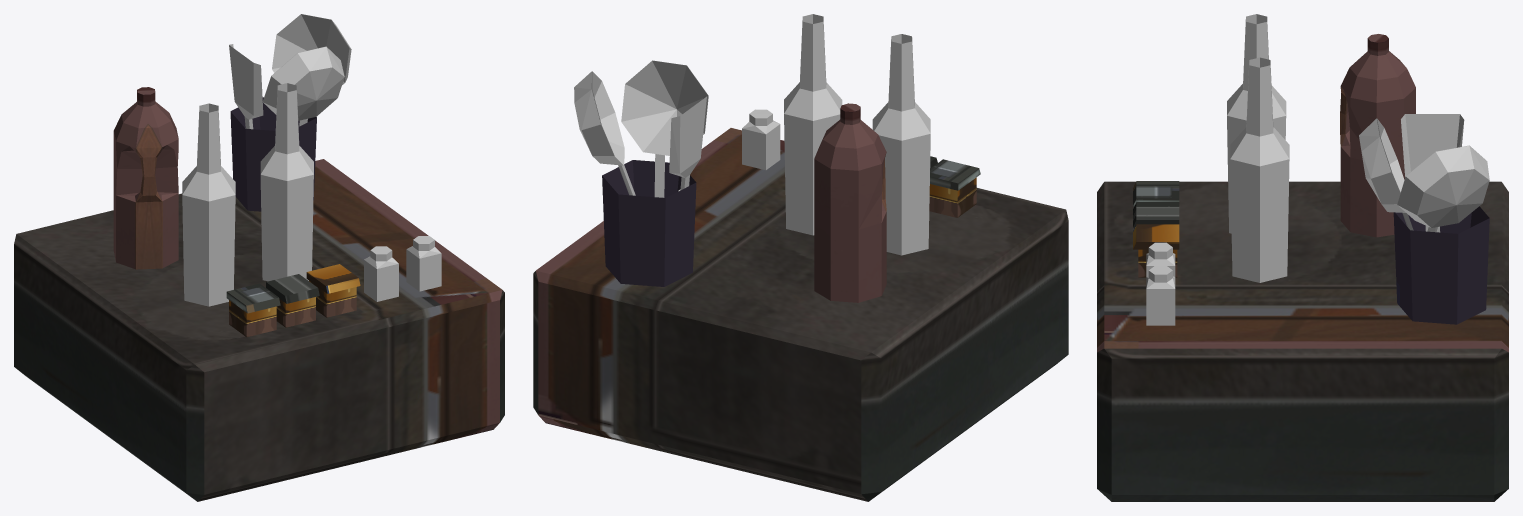
The model's file is jj-shuinitai1.FBX.
3 renders of one model, left to right at view 1: azimuth 30°, elevation 25°; view 2: azimuth 150°, elevation 25°; view 3: azimuth 270°, elevation 25°, orthographic. The views are drawn at different scales.
Parts seen in each view (by area): view 1: jj-shuinitai1_a, jj-shuinitai1_b, jj-shuinitai1_e, jj-shuinitai1_d, jj-shuinitai1_f, jj-shuinitai1_c, jj-shuinitai1_g; view 2: jj-shuinitai1_a, jj-shuinitai1_b, jj-shuinitai1_e, jj-shuinitai1_d, jj-shuinitai1_c, jj-shuinitai1_f, jj-shuinitai1_g; view 3: jj-shuinitai1_a, jj-shuinitai1_b, jj-shuinitai1_d, jj-shuinitai1_c, jj-shuinitai1_e, jj-shuinitai1_f, jj-shuinitai1_g.
Part boxes in pixels (x1,y1,x2,y2): jj-shuinitai1_a: [14, 159, 504, 501]; jj-shuinitai1_b: [182, 83, 313, 306]; jj-shuinitai1_e: [113, 87, 178, 269]; jj-shuinitai1_d: [229, 14, 351, 129]; jj-shuinitai1_f: [226, 264, 360, 337]; jj-shuinitai1_c: [230, 97, 316, 211]; jj-shuinitai1_g: [364, 236, 441, 301]; jj-shuinitai1_a: [533, 128, 1068, 501]; jj-shuinitai1_b: [784, 14, 930, 255]; jj-shuinitai1_e: [814, 103, 886, 302]; jj-shuinitai1_d: [574, 60, 708, 197]; jj-shuinitai1_c: [602, 160, 696, 286]; jj-shuinitai1_f: [929, 156, 980, 217]; jj-shuinitai1_g: [742, 109, 780, 170]; jj-shuinitai1_a: [1097, 181, 1508, 501]; jj-shuinitai1_b: [1227, 14, 1289, 282]; jj-shuinitai1_d: [1359, 114, 1489, 232]; jj-shuinitai1_c: [1393, 206, 1489, 324]; jj-shuinitai1_e: [1340, 34, 1415, 237]; jj-shuinitai1_f: [1133, 181, 1179, 277]; jj-shuinitai1_g: [1146, 242, 1175, 325].
Bounding box in the file's own units: 74.43 × 73.09 × 74.98.
